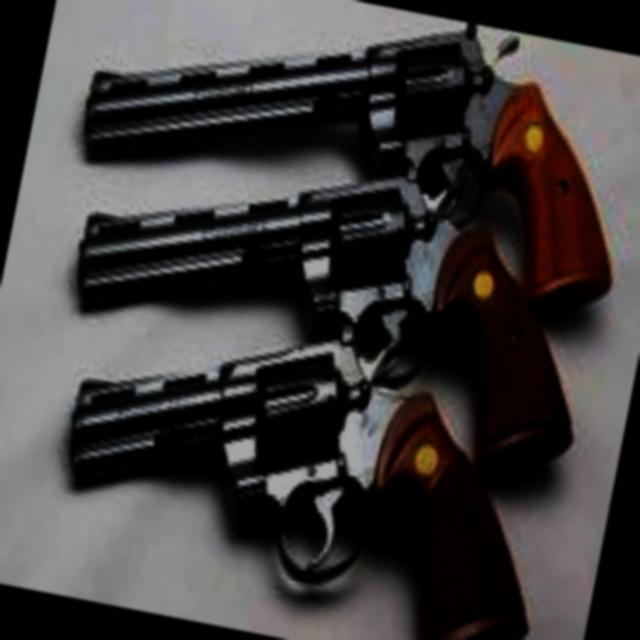revolver: (0, 256, 618, 640)
